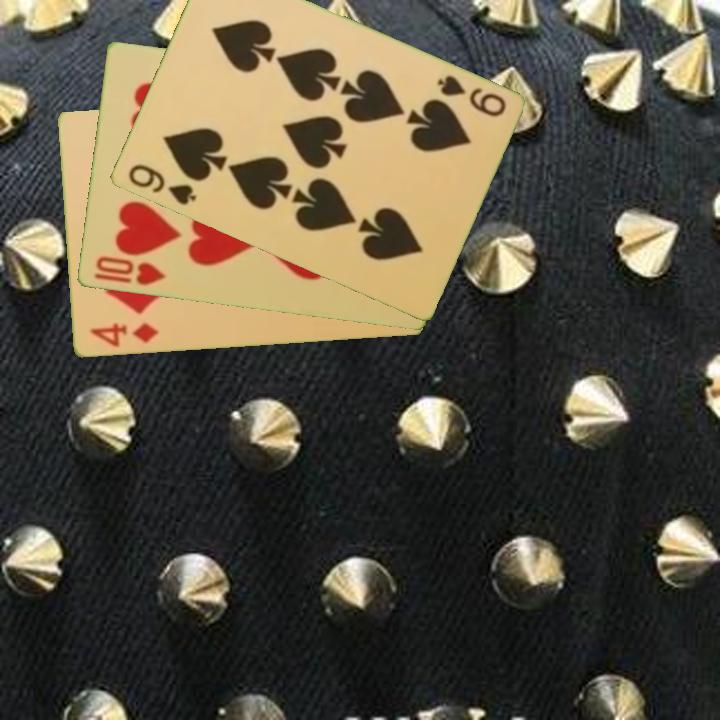10h: (92, 253, 168, 289)
4d: (86, 320, 162, 350)
9s: (432, 71, 509, 121), (124, 161, 199, 209)
